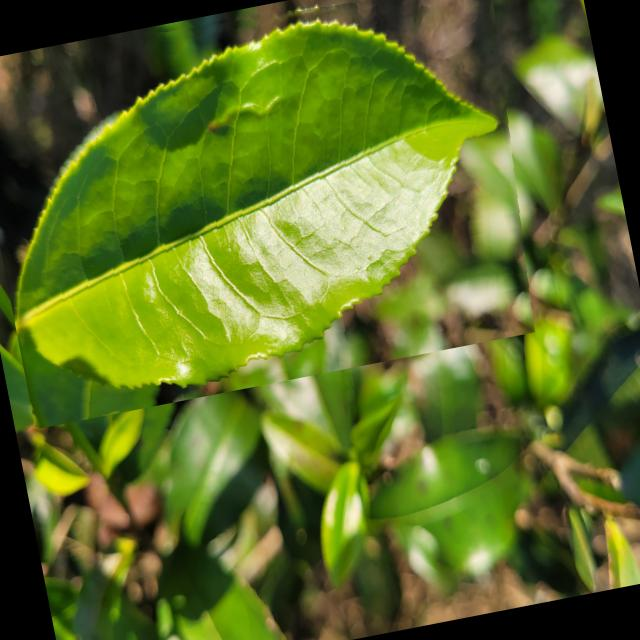Category B(2-4 days): (0, 0, 557, 429)
